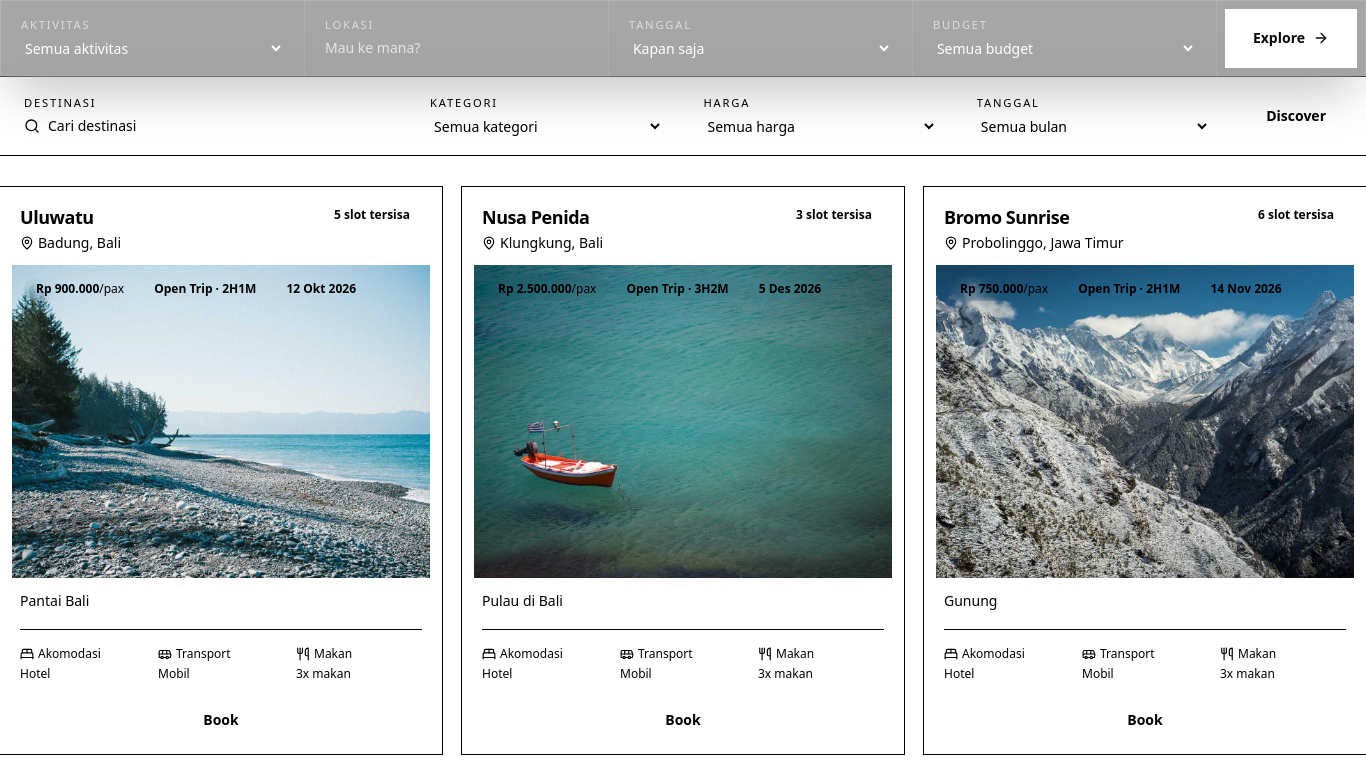
trip search and cards › shows an empty message with a reset button when nothing matches
Type "atlantis" into the search field labelled "Destinasi". click: (219, 126)
box: [48,116,390,136]
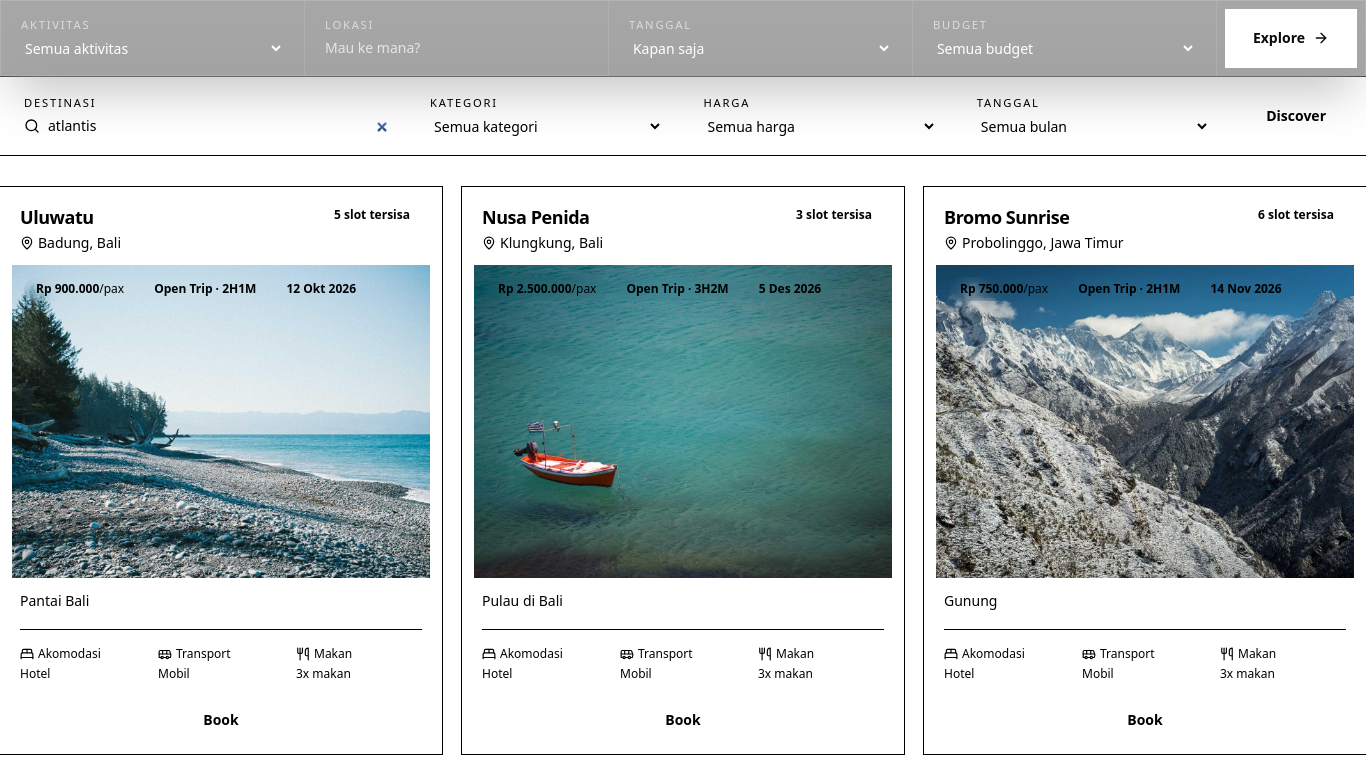
Click the button "Discover". click: (1296, 116)
box: [1234,85,1358,147]
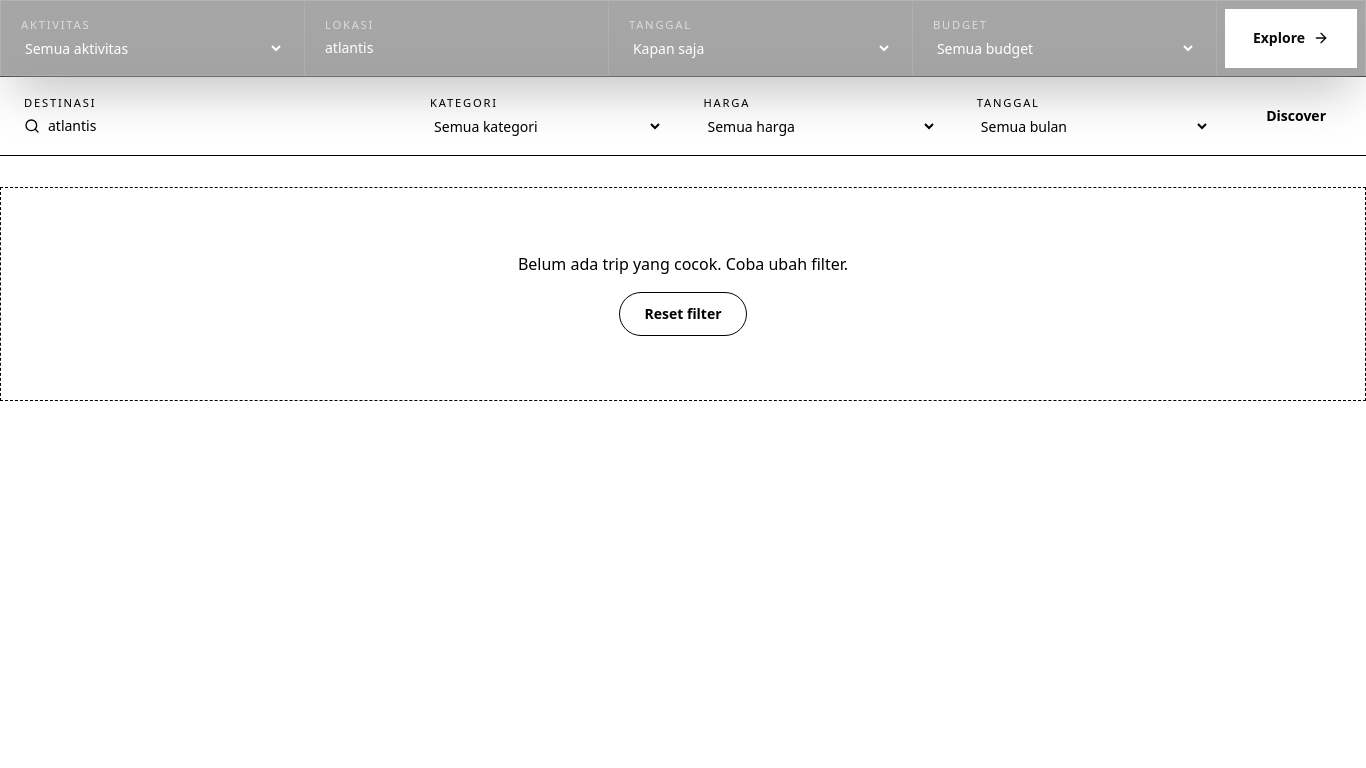
Expected: the message shows "Belum ada trip yang cocok. Coba ubah filter.", [518,253,848,275]
Click the button "Reset filter". click: (683, 314)
box: [619,292,746,336]
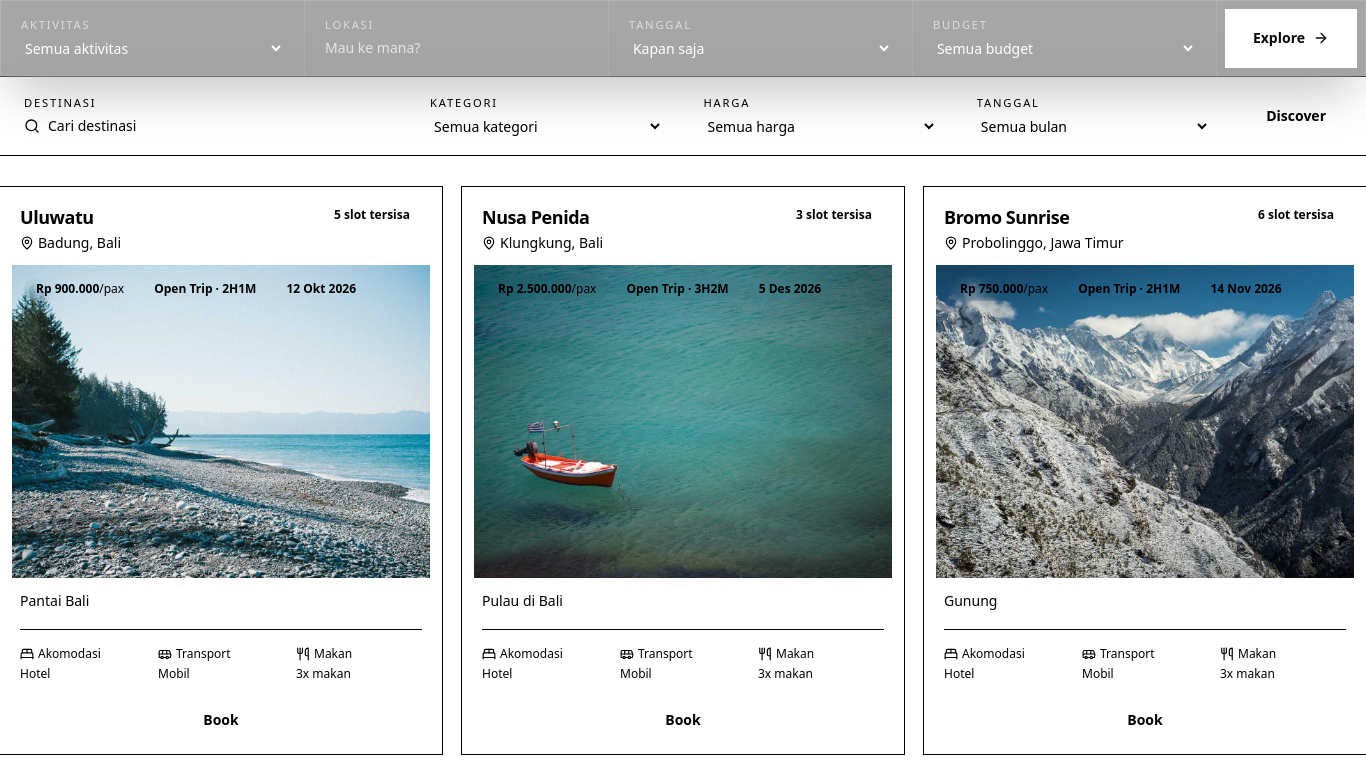
Expected: the number of headings is 4
